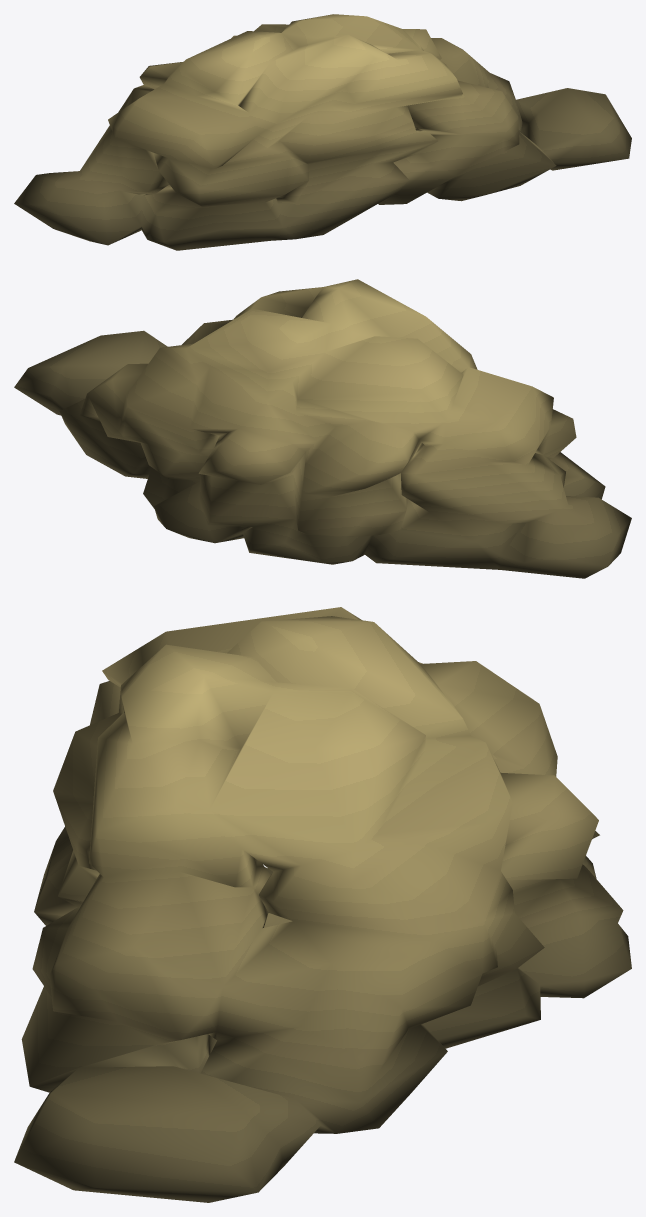
3 renders of one model, top to bottom at view 1: azimuth 30°, elevation 25°; view 2: azimuth 150°, elevation 25°; view 3: azimuth 270°, elevation 25°, orthographic. The views are drawn at different scales.
Visible parts, largest first — view 1: SB3.col; view 2: SB3.col; view 3: SB3.col.
Boxes of the visible parts, left/top/right/bottom form: SB3.col: left=14, top=14, right=631, bottom=250; SB3.col: left=14, top=279, right=631, bottom=578; SB3.col: left=14, top=607, right=631, bottom=1202.
Size of the model in its own units: 3.73 by 1 by 1.9.
Materials: 1 (1 with a texture image).
